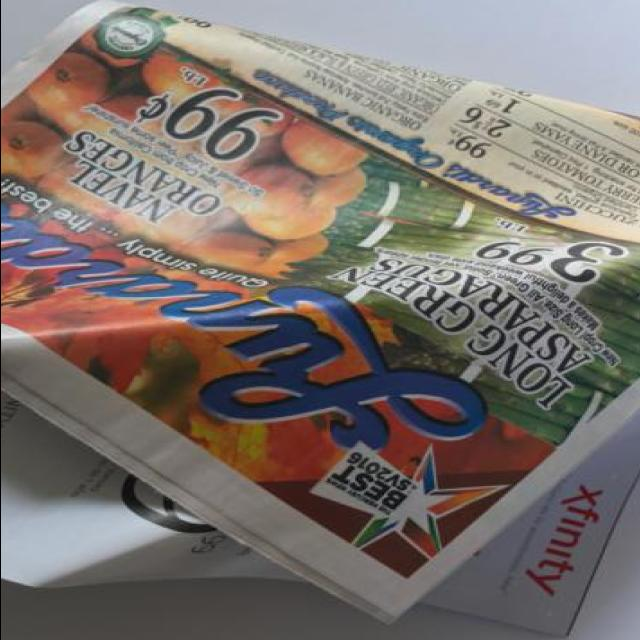kertas: (0, 0, 640, 637)
